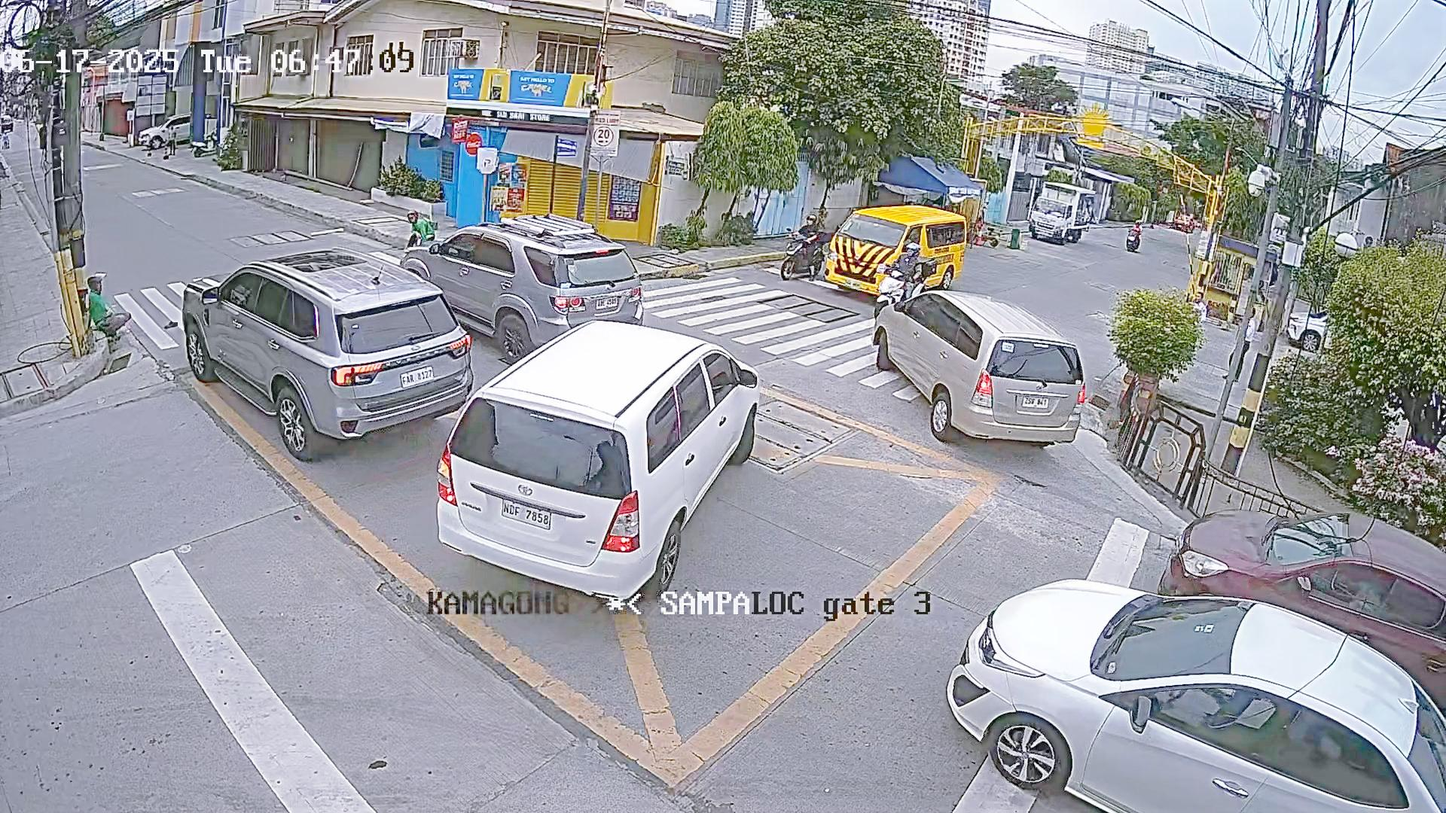Car: (889, 514, 1412, 813), (417, 307, 778, 623), (133, 225, 482, 476), (1127, 447, 1446, 651), (374, 187, 674, 358), (862, 296, 1098, 464), (822, 205, 990, 299)
Motor: (859, 237, 964, 315), (771, 201, 827, 297)
